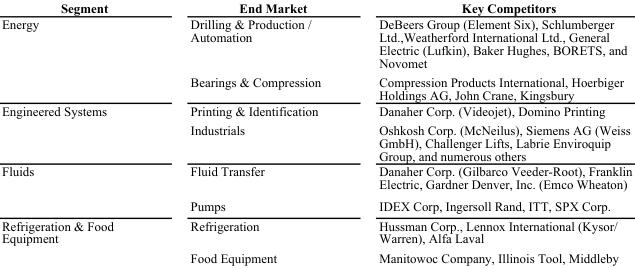table: (0, 0, 631, 264)
table column: (349, 0, 631, 264), (151, 0, 349, 264), (0, 0, 151, 264)
table column header: (0, 0, 631, 15)
table row: (0, 15, 631, 72), (0, 119, 631, 163), (0, 215, 631, 247), (0, 163, 631, 194), (0, 72, 631, 102), (0, 194, 631, 215), (0, 102, 631, 119), (0, 247, 631, 264), (0, 0, 631, 15)
table spanning cell: (0, 15, 151, 102), (0, 102, 151, 163), (0, 163, 151, 215), (0, 215, 151, 264)
